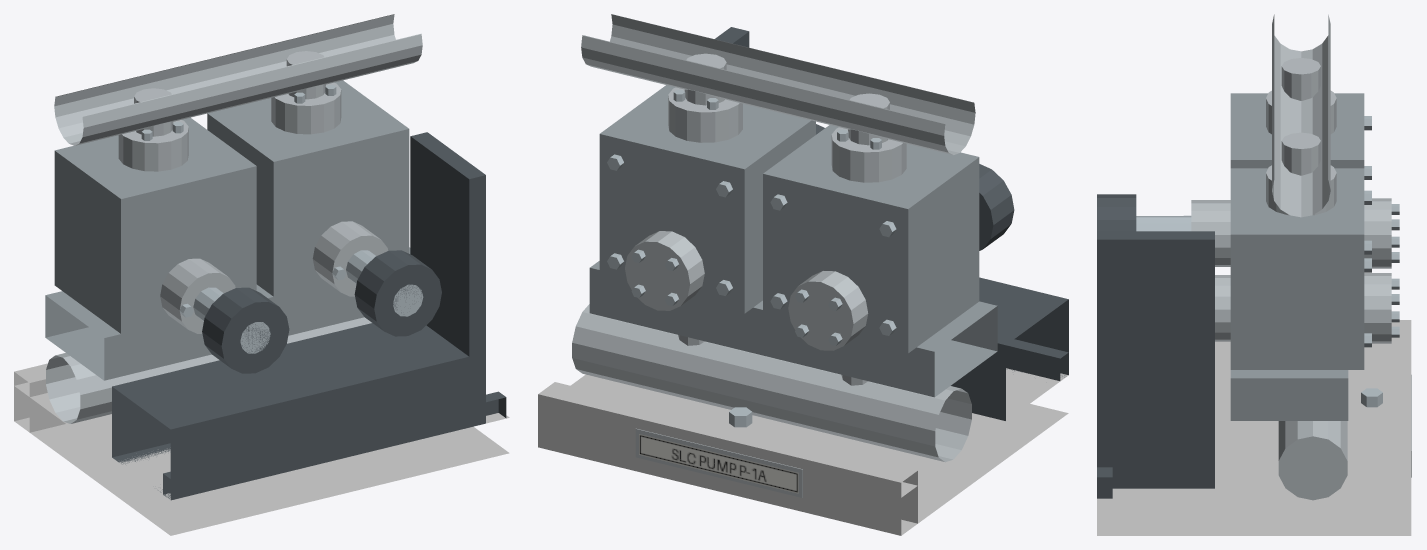
File: cell_1.obj
The picture shows the model from 3 angles, left to right: view 1: azimuth 30°, elevation 25°; view 2: azimuth 150°, elevation 25°; view 3: azimuth 270°, elevation 25°; orthographic projection. The views are drawn at different scales.
Size of the model in its own units: 1 by 1 by 0.804.
